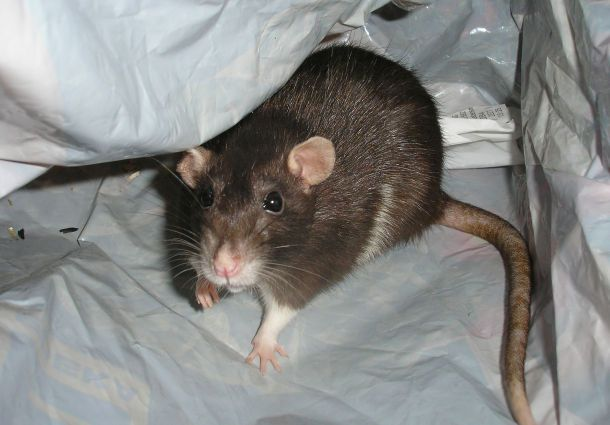rat: (159, 37, 536, 383)
